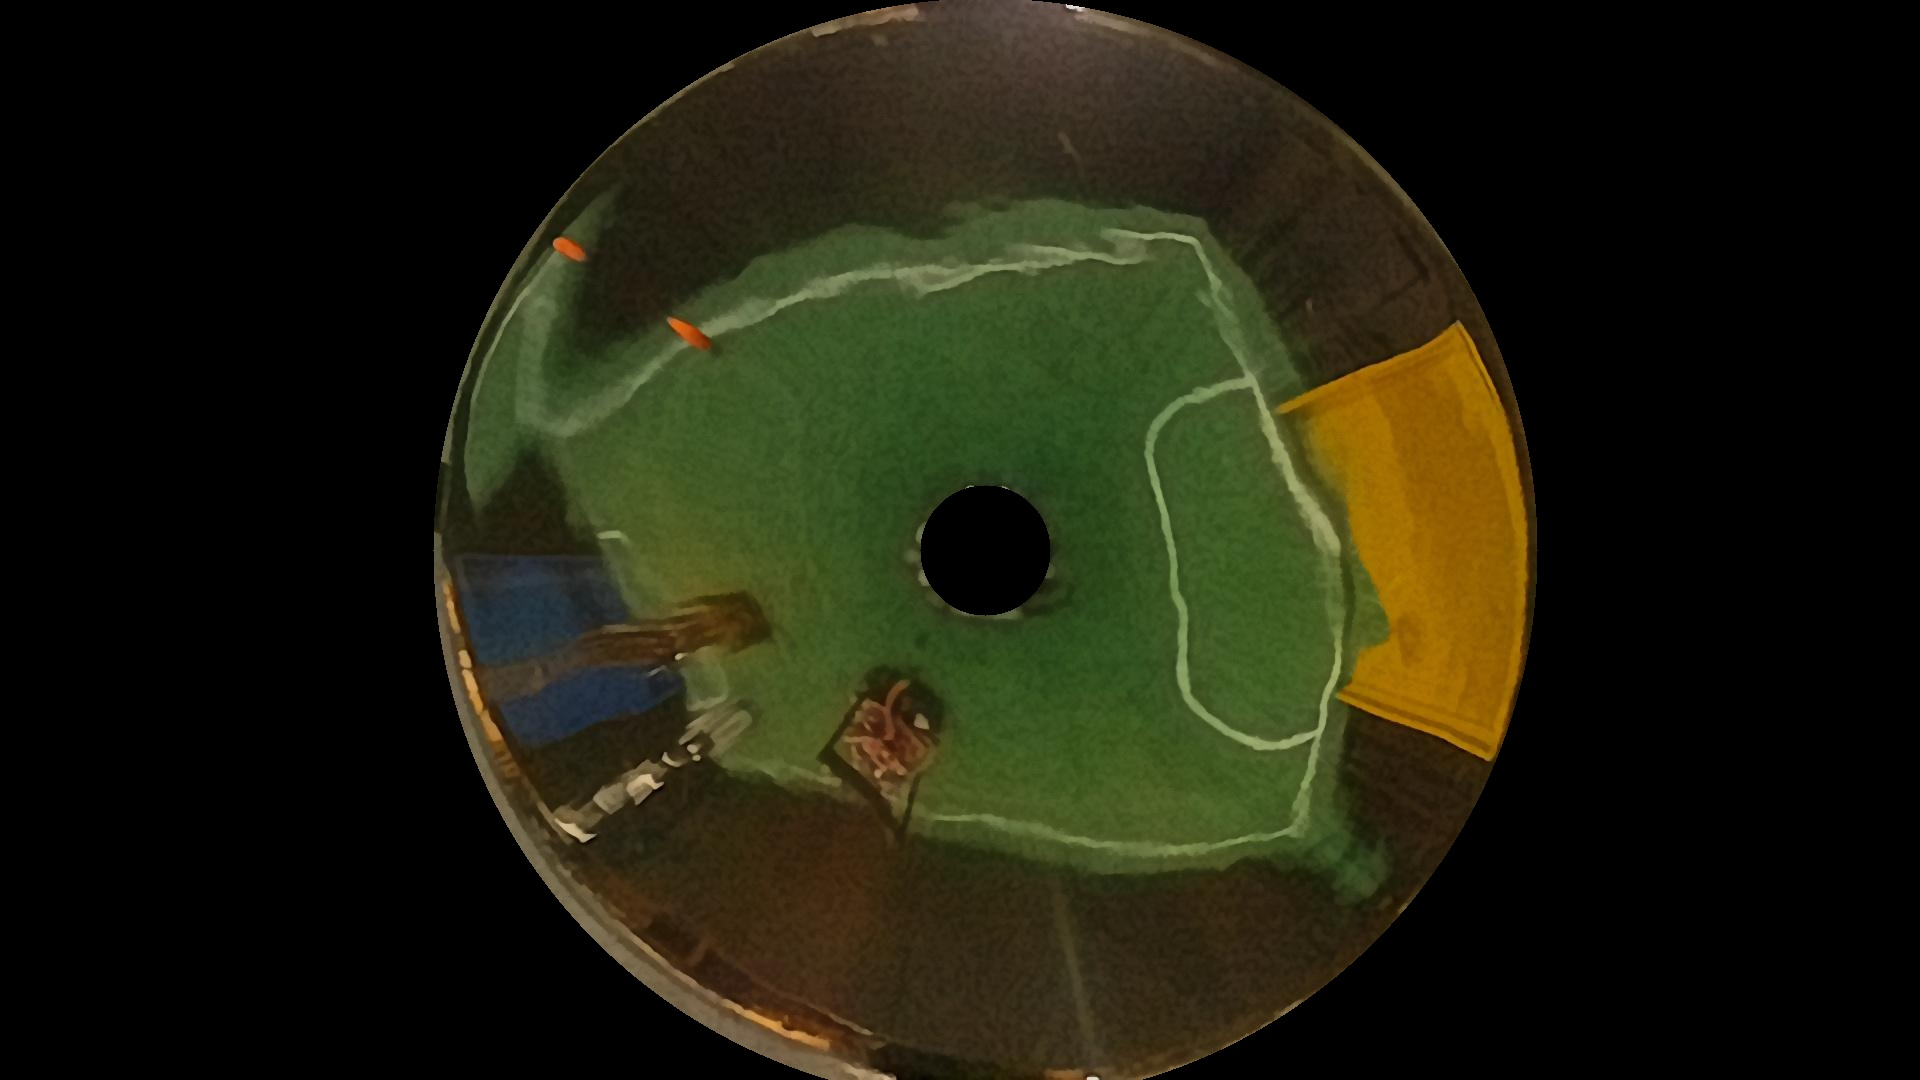ball: (545, 233, 597, 274), (666, 318, 708, 360)
blue-goal: (438, 550, 669, 740)
robots: (546, 692, 767, 858), (473, 597, 782, 682), (825, 674, 949, 837)
yellow-goal: (1266, 371, 1513, 752)
